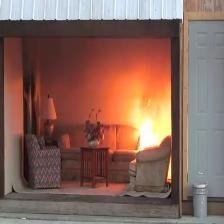fire: (135, 96, 166, 144)
